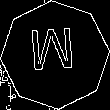M_S: (30, 28, 80, 82)
